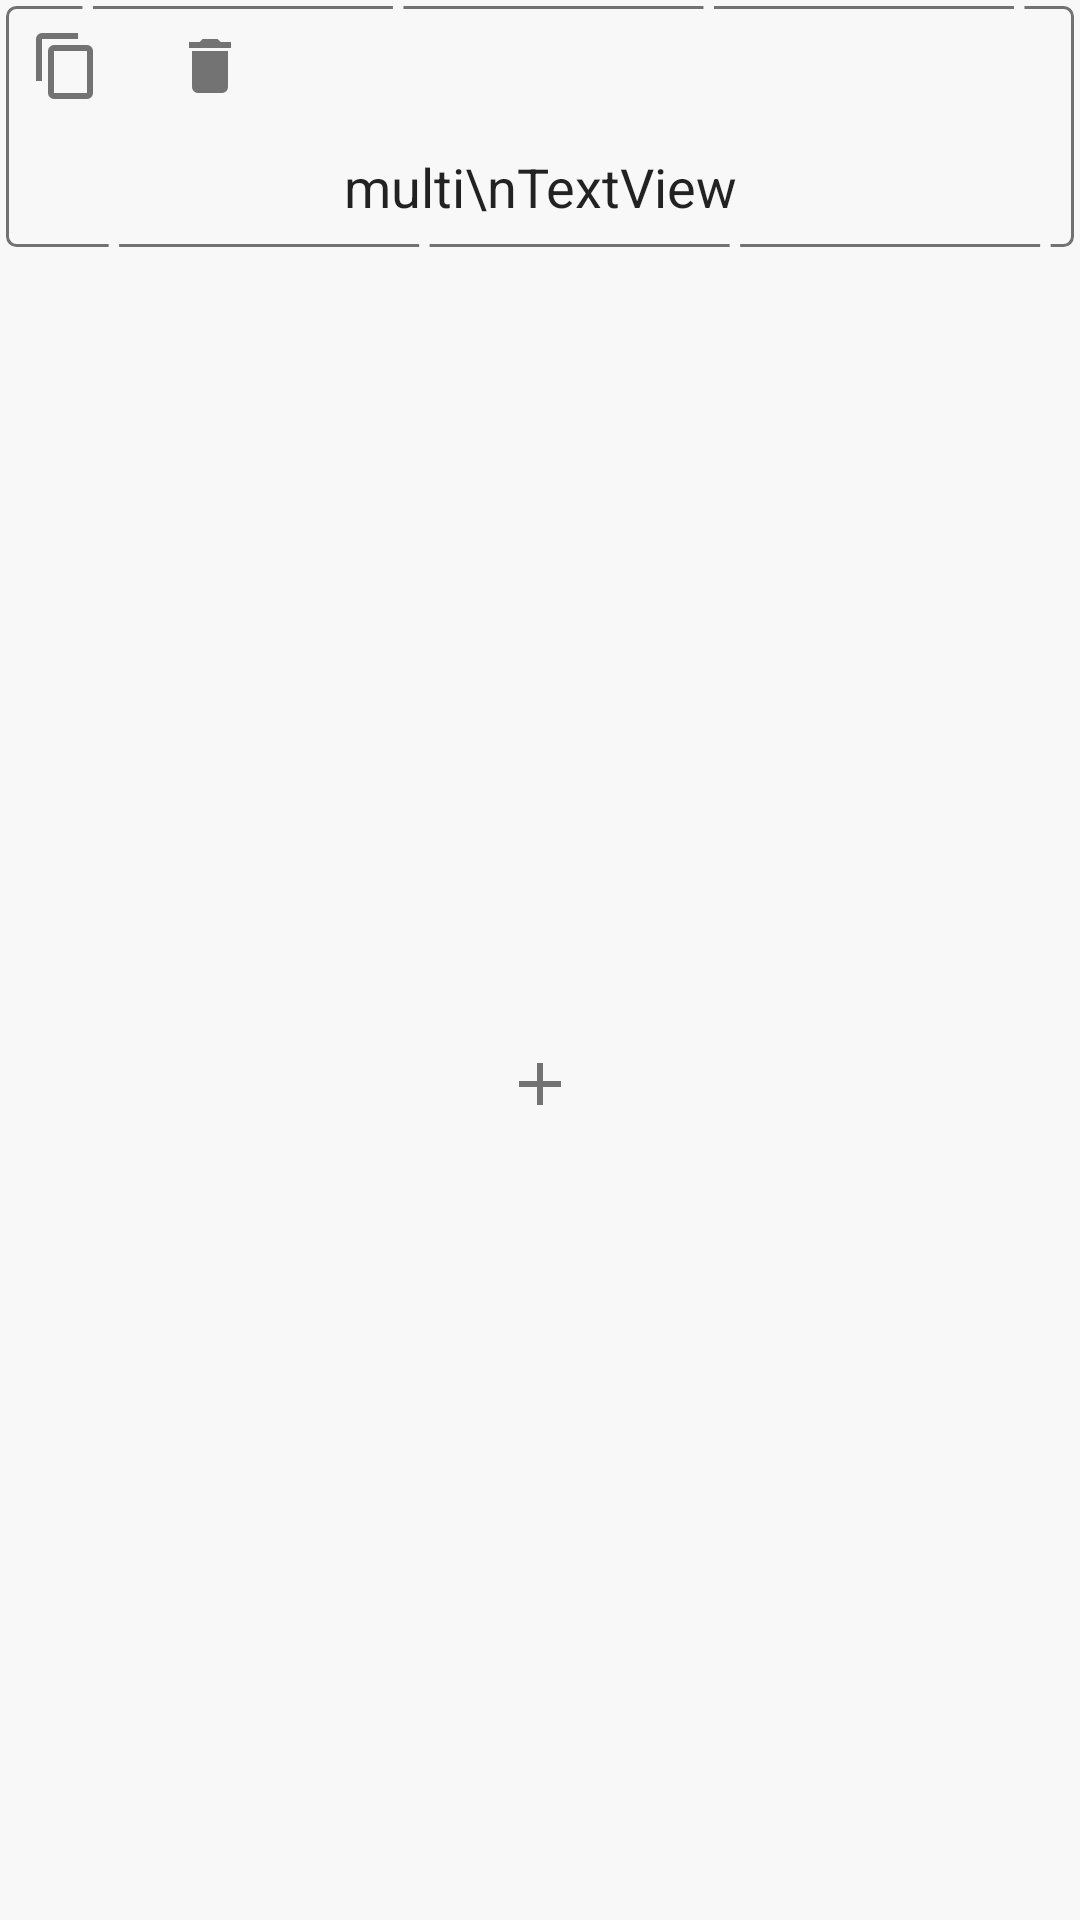

Screen size 1080px x 1920px. Icon name, then its box in pixels as (x1, y1, x2, y2):
delete theme: (189, 39, 231, 93)
plus theme: (519, 1063, 561, 1105)
